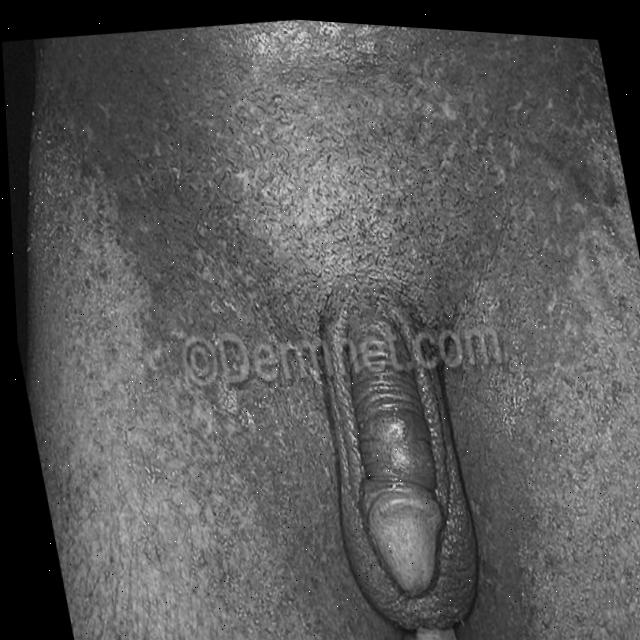Eczema: (23, 2, 640, 640)
